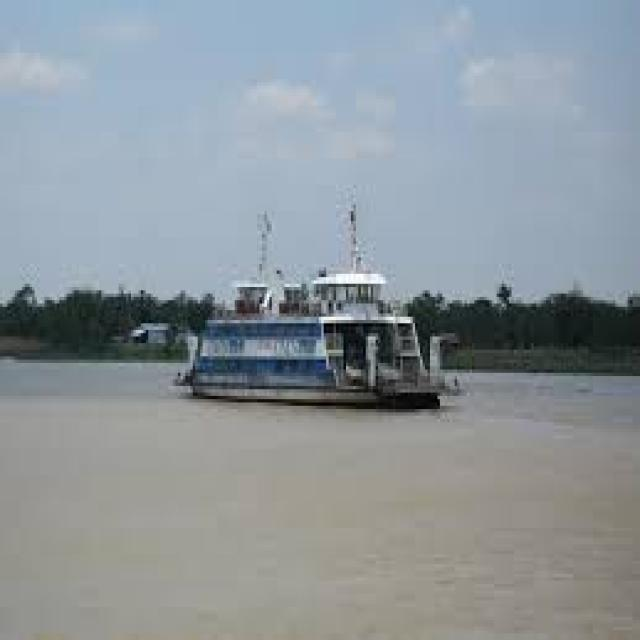passenger ship: (184, 269, 428, 405)
